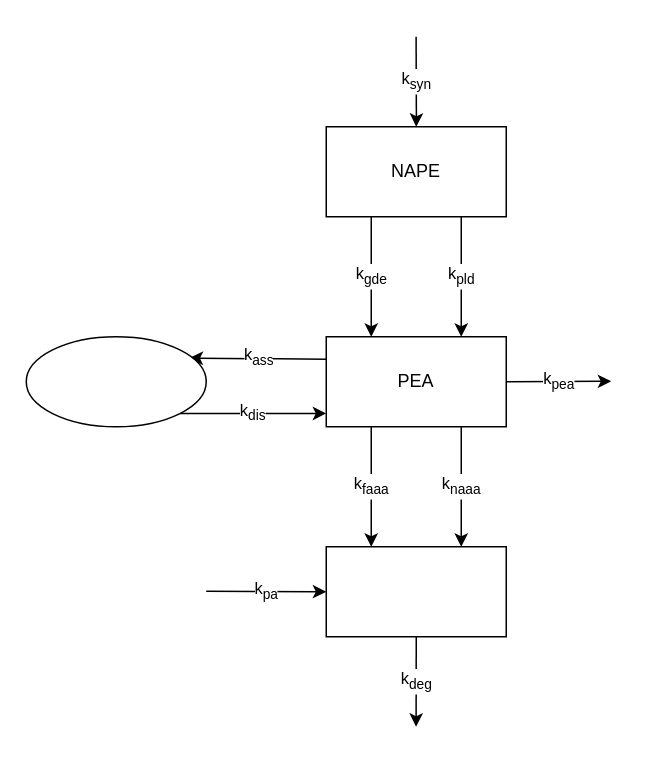
Image size: 650x765. Some labels were removed from this diagram. The shapes that lost their labels are listed below. From the top down, each one's box as (x1, y1, x2, y2) in pixels, then its label:
(25, 335, 206, 427): PPARa
(325, 545, 506, 637): PA
